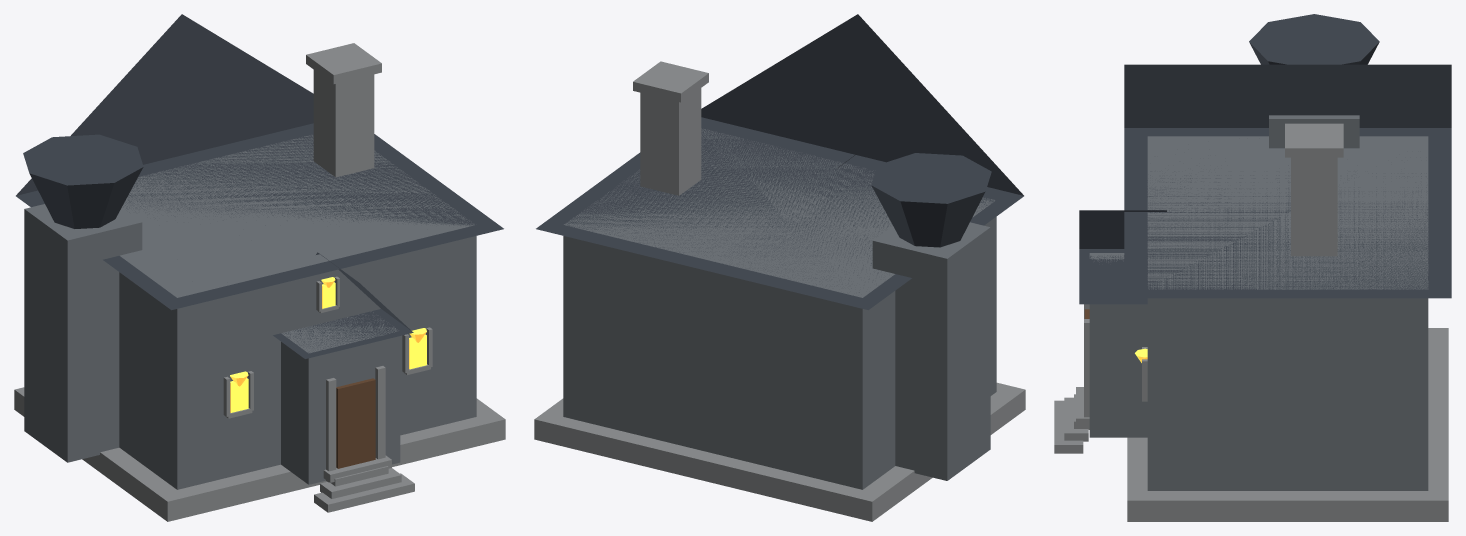
File: house_lv1.glb
3 renders of one model, left to right at view 1: azimuth 30°, elevation 25°; view 2: azimuth 150°, elevation 25°; view 3: azimuth 270°, elevation 25°, orthographic. The views are drawn at different scales.
Parts seen in each view (by area): view 1: Walls, Roof, Tower, Entry, Foundation, TowerRoof, Chimney, EntryRoof, Door, ChimneyCap, Step1, Step2 (+4 smaller); view 2: Walls, Roof, Tower, Foundation, TowerRoof, Chimney, ChimneyCap; view 3: Walls, Roof, Foundation, Entry, TowerRoof, Chimney, EntryRoof, ChimneyCap, Tower, Step1, Step2, DoorFrameR.
Part boxes in pixels (x1=…): Walls: x1=119, y1=135, x2=476, y2=489; Roof: x1=16, y1=14, x2=503, y2=310; Tower: x1=24, y1=204, x2=142, y2=462; Entry: x1=281, y1=311, x2=400, y2=484; Foundation: x1=14, y1=387, x2=505, y2=521; TowerRoof: x1=23, y1=134, x2=143, y2=228; Chimney: x1=313, y1=70, x2=374, y2=177; EntryRoof: x1=273, y1=252, x2=413, y2=358; Door: x1=336, y1=378, x2=375, y2=468; ChimneyCap: x1=306, y1=43, x2=381, y2=83; Step1: x1=314, y1=473, x2=414, y2=512; Step2: x1=320, y1=468, x2=401, y2=498; Walls: x1=563, y1=128, x2=996, y2=489; Roof: x1=536, y1=14, x2=1023, y2=310; Tower: x1=872, y1=222, x2=990, y2=480; Foundation: x1=534, y1=382, x2=1025, y2=521; TowerRoof: x1=871, y1=153, x2=991, y2=247; Chimney: x1=640, y1=88, x2=701, y2=195; ChimneyCap: x1=633, y1=61, x2=708, y2=102; Walls: x1=1147, y1=136, x2=1428, y2=490; Roof: x1=1124, y1=64, x2=1451, y2=298; Foundation: x1=1127, y1=328, x2=1448, y2=521; Entry: x1=1089, y1=253, x2=1147, y2=437; TowerRoof: x1=1249, y1=14, x2=1379, y2=64; Chimney: x1=1291, y1=157, x2=1337, y2=256; EntryRoof: x1=1079, y1=210, x2=1166, y2=304; ChimneyCap: x1=1285, y1=123, x2=1343, y2=157; Tower: x1=1269, y1=115, x2=1359, y2=148; Step1: x1=1054, y1=400, x2=1083, y2=453; Step2: x1=1064, y1=397, x2=1088, y2=441; DoorFrameR: x1=1084, y1=319, x2=1089, y2=428.
Size of the model in its own units: 8.02 by 7 by 6.8.
